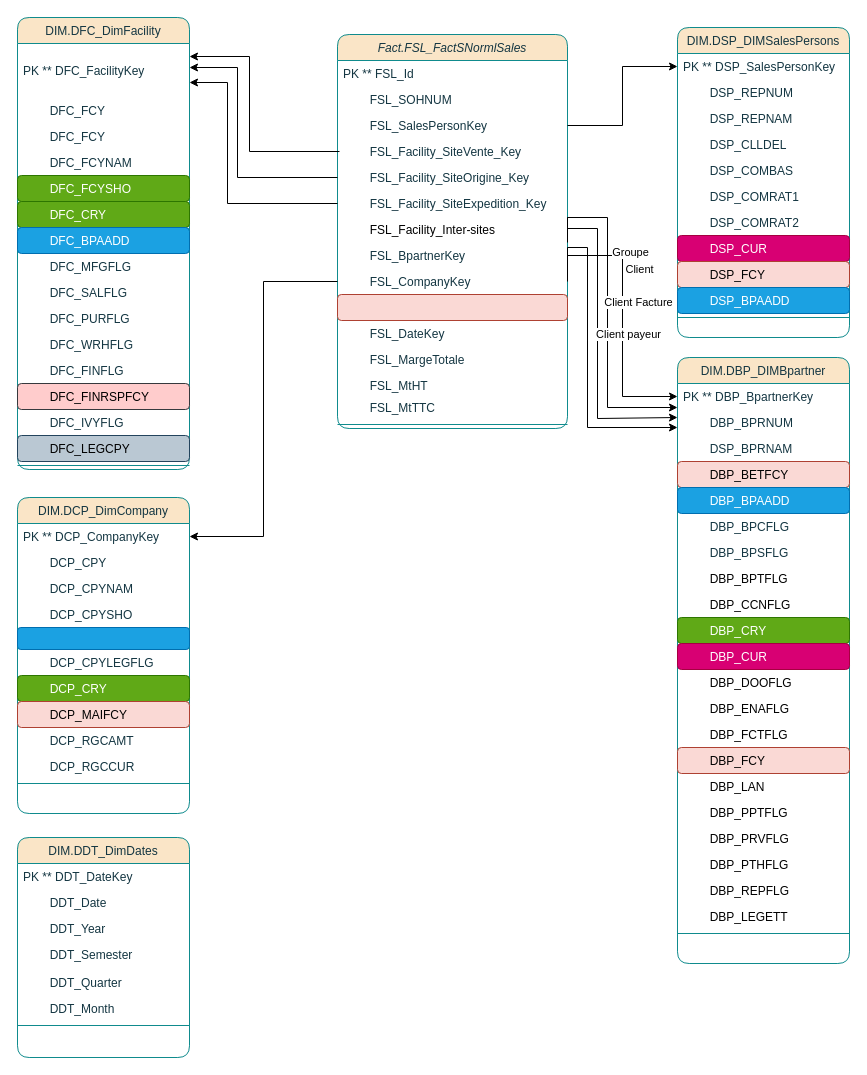
Some shapes in this 867 by 1075 pixel diagram are drawn without their labels. Each missing label, with the centre of its shape:
"DCP_BPAADD" belongs at point (103, 638).
"FSL_CompanyKey Inter-sociétés" belongs at point (452, 307).
